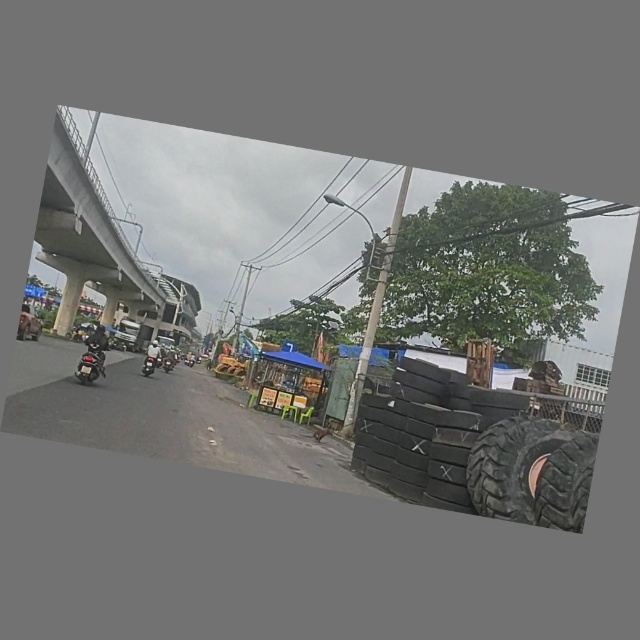R.301e: (281, 341, 297, 355)
